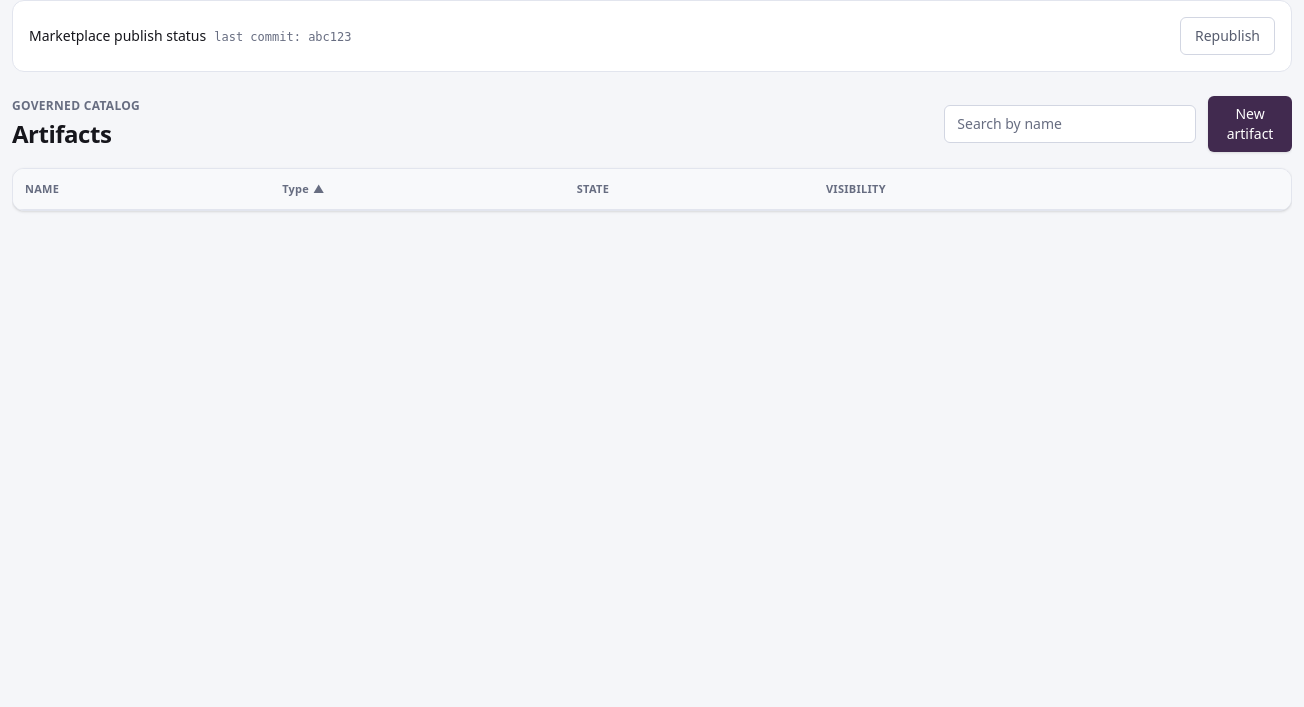
create form has a visibility selector defaulting to org
Step 1. Click the button "New artifact" → (1250, 124), box [1208,96,1292,152]
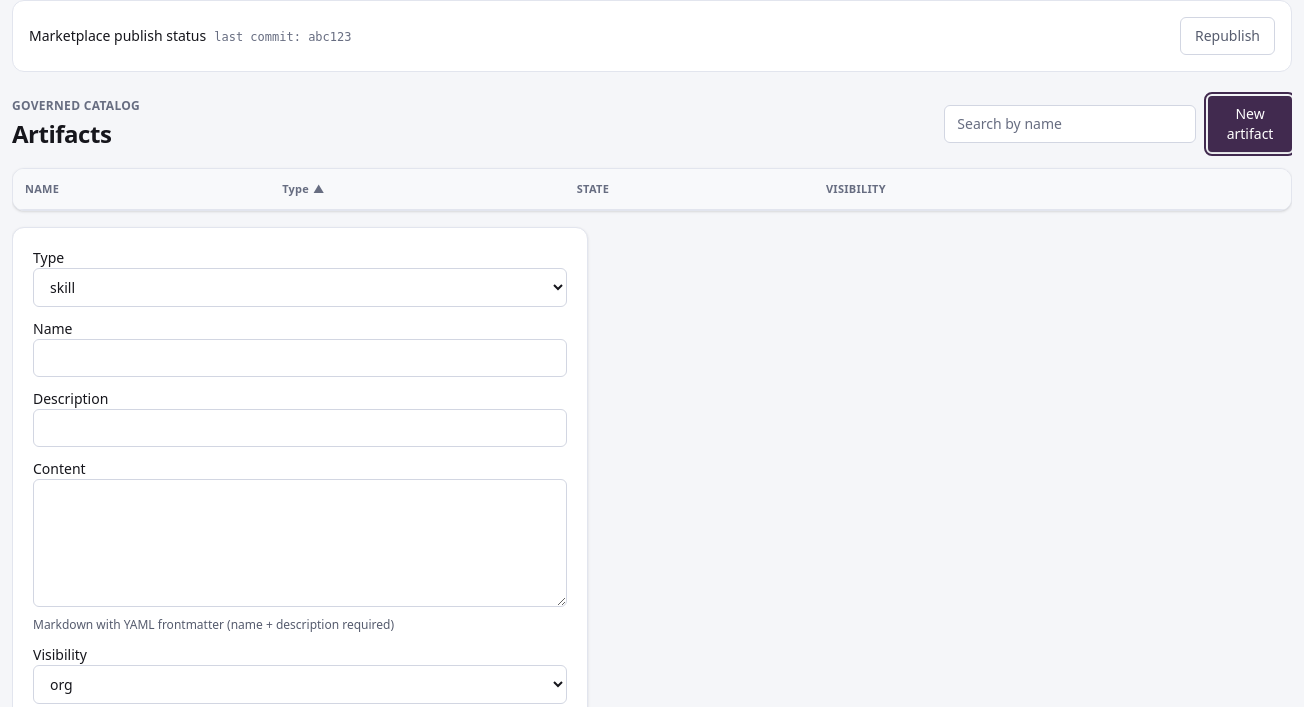
Now the dropdown labelled "Visibility" shows "org", box [33,665,567,704]
